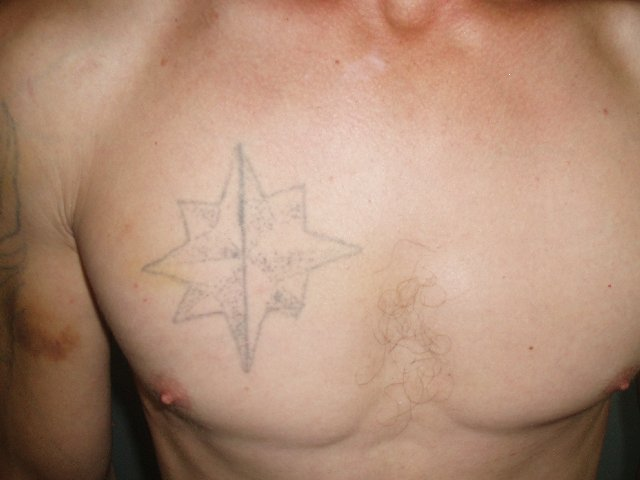tatu4_zvezda: (143, 145, 366, 374)
